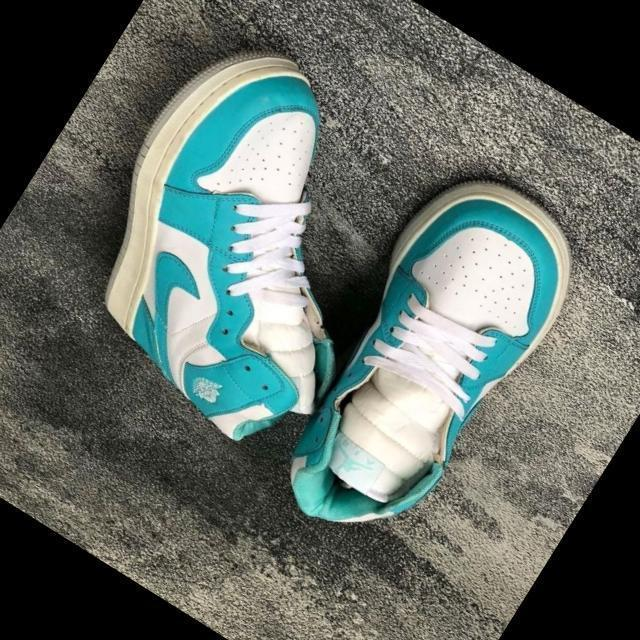nike fake jordan 1: (29, 10, 467, 467), (250, 150, 608, 576)
